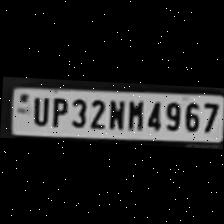2: (86, 94, 106, 128)
3: (64, 93, 86, 127)
4: (142, 96, 162, 128)
6: (180, 97, 200, 131)
7: (198, 98, 220, 132)
9: (160, 96, 180, 130)
M: (123, 95, 145, 129)
N: (104, 95, 124, 129)
P: (46, 92, 66, 126)
U: (27, 92, 49, 125)
